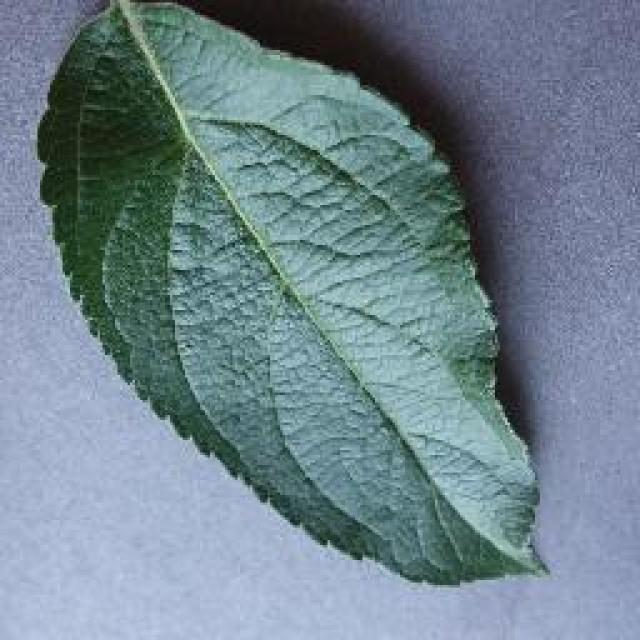apple healthy: (32, 0, 550, 588)
